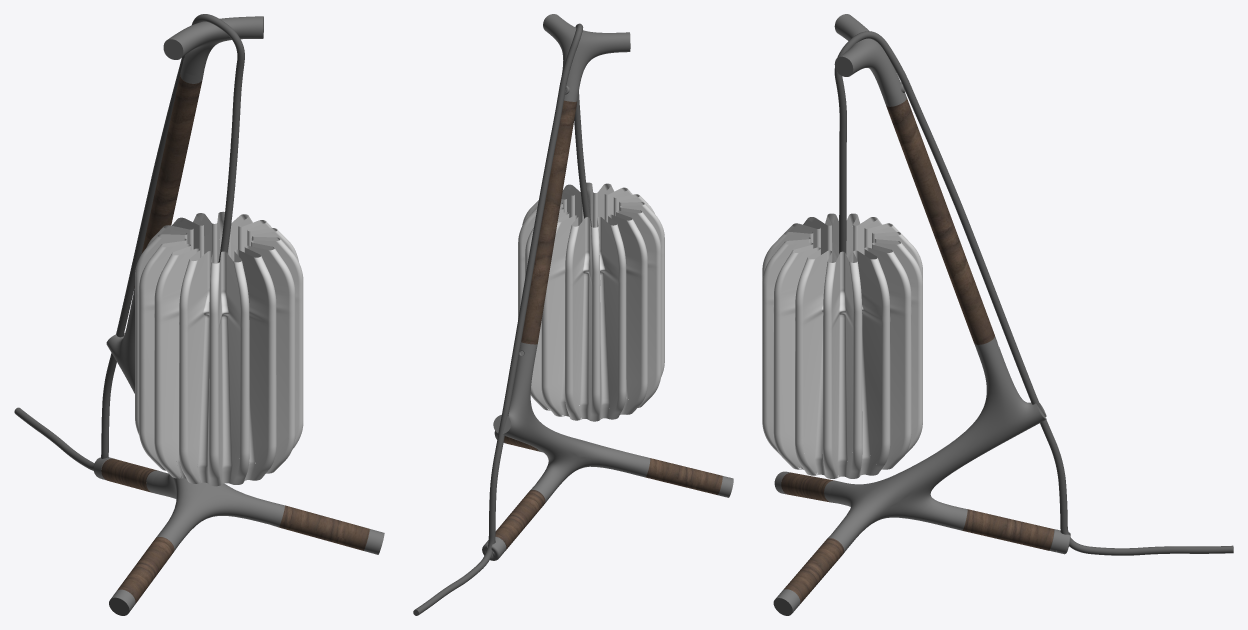
Rendered from WebHostTest.glb.
The picture shows the model from 3 angles, left to right: view 1: azimuth 30°, elevation 25°; view 2: azimuth 150°, elevation 25°; view 3: azimuth 270°, elevation 25°; orthographic projection. The views are drawn at different scales.
Visible parts, largest first — view 1: Light.001, Nylon, Wood, Assembled Model; view 2: Light.001, Nylon, Wood, Assembled Model; view 3: Light.001, Nylon, Wood, Assembled Model.
Boxes of the visible parts, x1,y1,x2,y2 form: Light.001: (135, 211, 303, 486); Nylon: (93, 16, 384, 615); Wood: (101, 74, 369, 604); Assembled Model: (14, 14, 244, 470); Light.001: (518, 182, 664, 421); Nylon: (482, 14, 733, 560); Wood: (495, 100, 722, 549); Assembled Model: (413, 23, 591, 615); Light.001: (762, 213, 922, 478); Nylon: (773, 14, 1070, 615); Wood: (781, 98, 1054, 603); Assembled Model: (834, 31, 1233, 555).
Bounding box in the file's own units: 0.2608 × 0.4932 × 0.4018.
4 materials, 1 textured.
